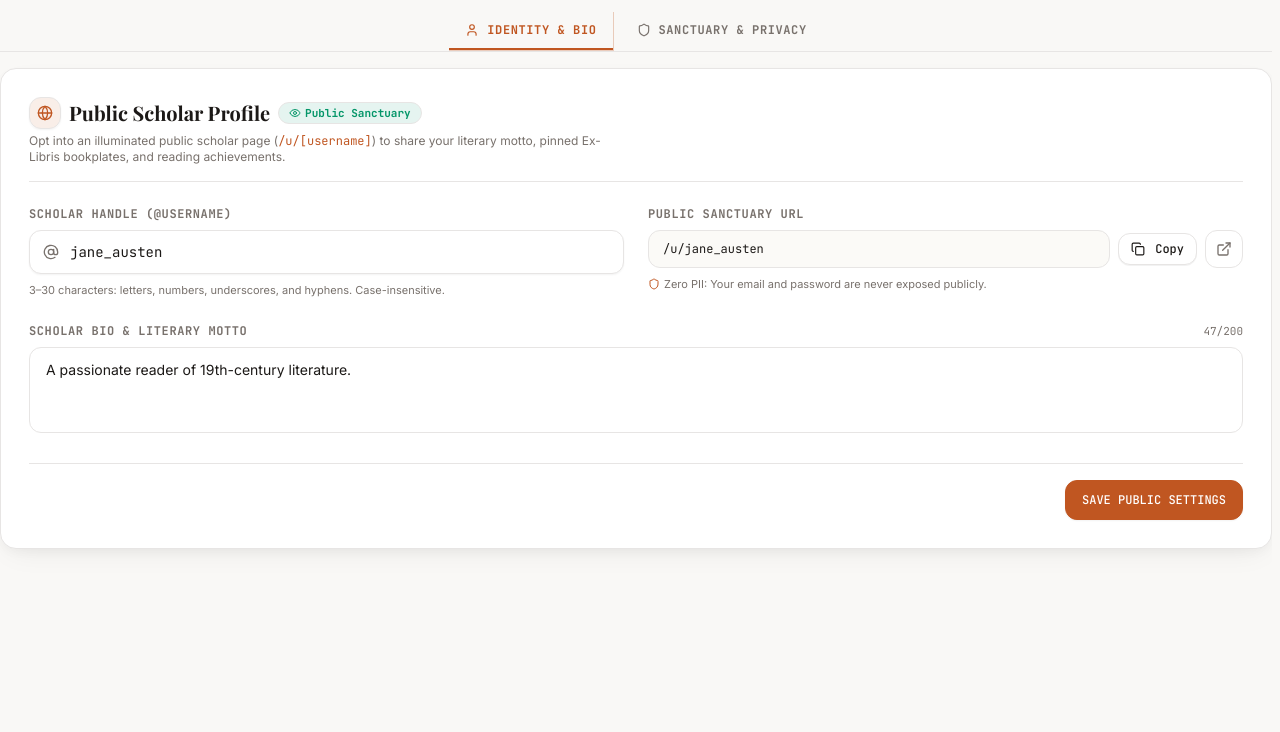
Scenario: AccountPublicProfileSection › copies shareable link to clipboard when clicked
What coordinates should you click on to do the following:
click the button with aria-label "copy public profile url"
I would click on:
 (1158, 249)
Its box is left=1118, top=233, right=1197, bottom=265.
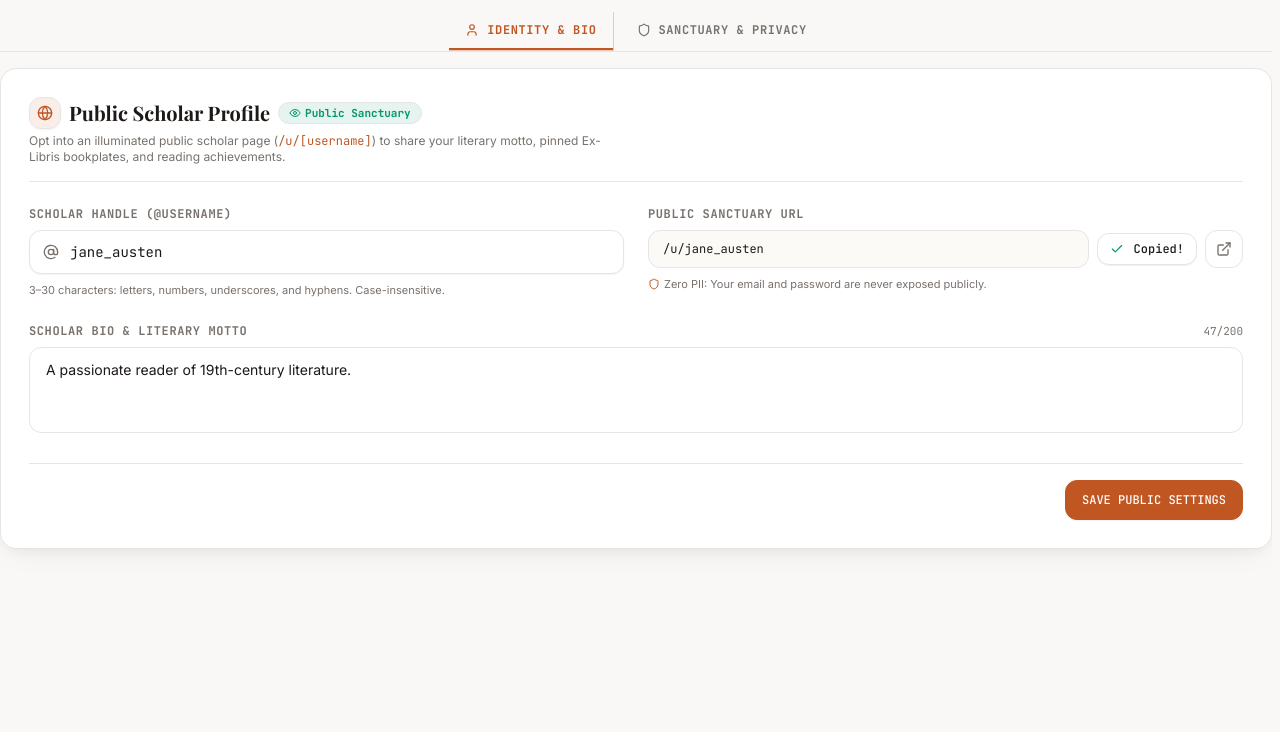
Expected: the text "Copied!" is shown, left=1134, top=241, right=1184, bottom=257
